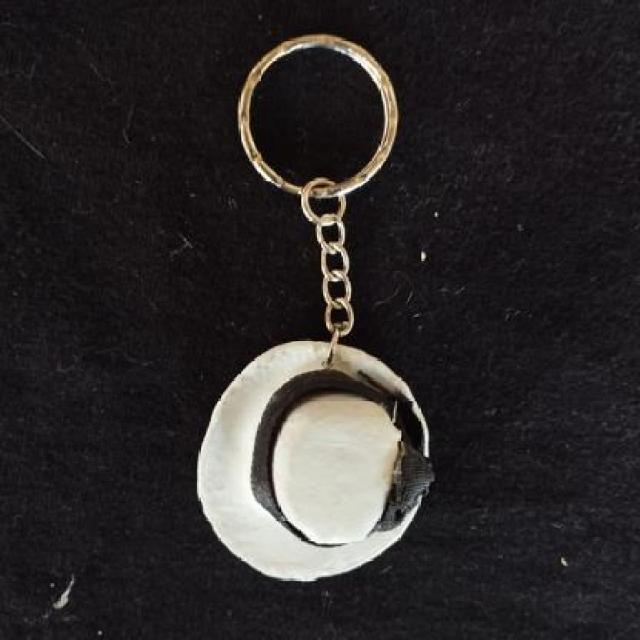Llavero: (196, 337, 436, 583)
